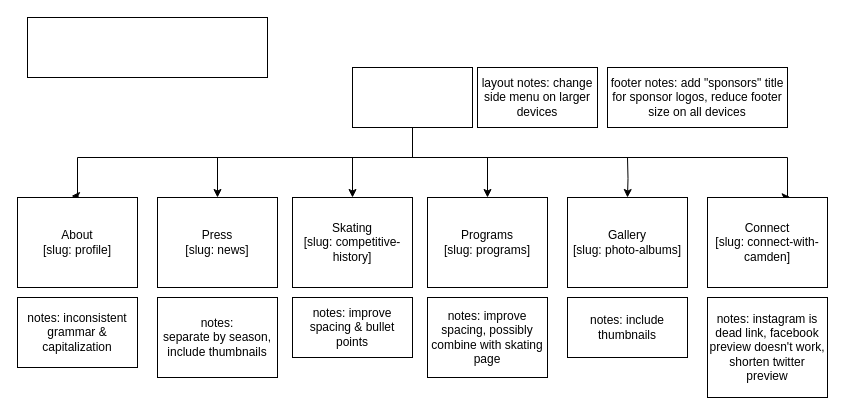
This 845x415 diagram has some shape labels left out. The centre of each missing label's shape, as x and y in pixels:
"Home" goes at [412,97].
"sitemap & notes for camdenpulkinen.com" goes at [147,47].
